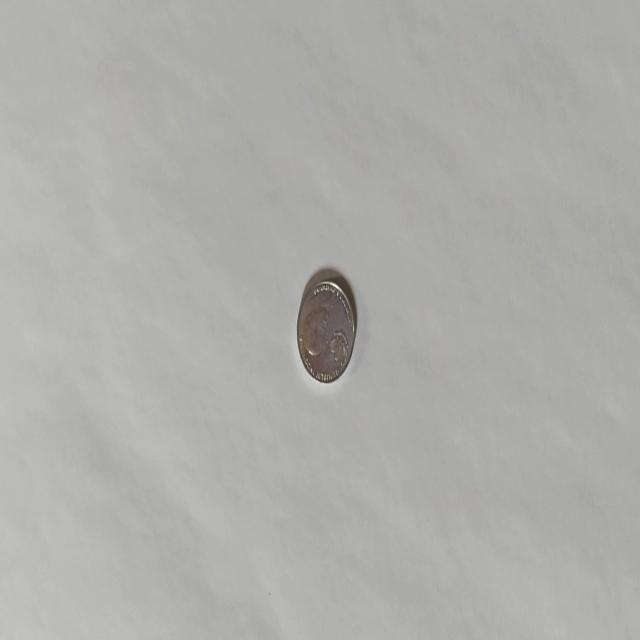lima ratus rupiah: (296, 270, 356, 384)
